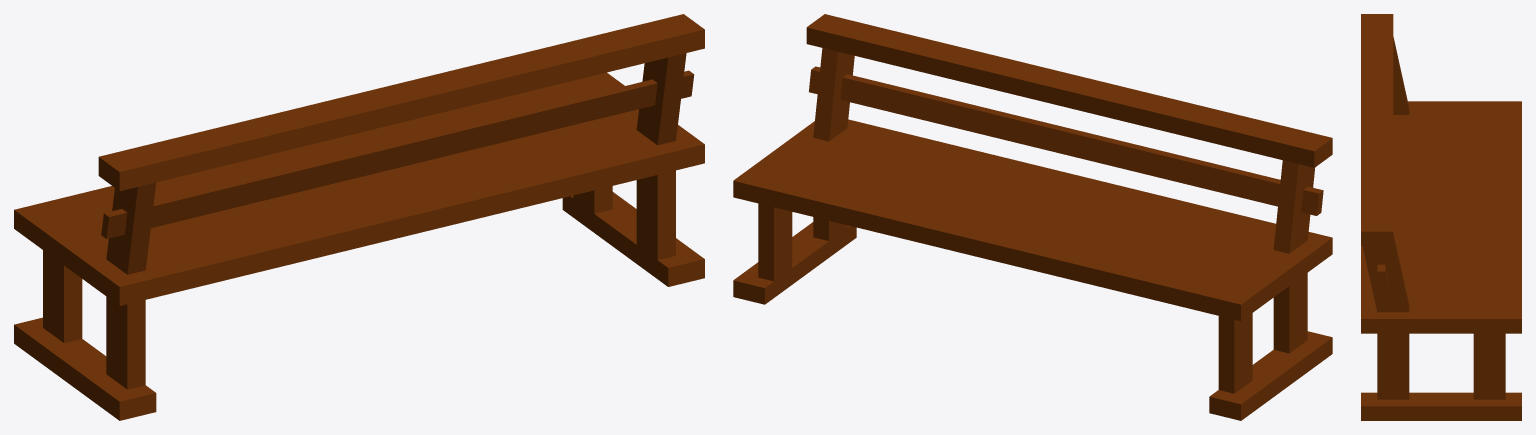
Rendered from bench.obj.
3 renders of one model, left to right at view 1: azimuth 30°, elevation 25°; view 2: azimuth 150°, elevation 25°; view 3: azimuth 270°, elevation 25°, orthographic. The views are drawn at different scales.
Visible parts, largest first — view 1: bench_back; view 2: bench_back; view 3: bench_back.
Boxes of the visible parts, x1,y1,x2,y2 form: bench_back: [14, 14, 704, 420]; bench_back: [733, 14, 1332, 420]; bench_back: [1361, 14, 1521, 420].
Bounding box in the file's own units: 2.56 × 1.04 × 0.8.
